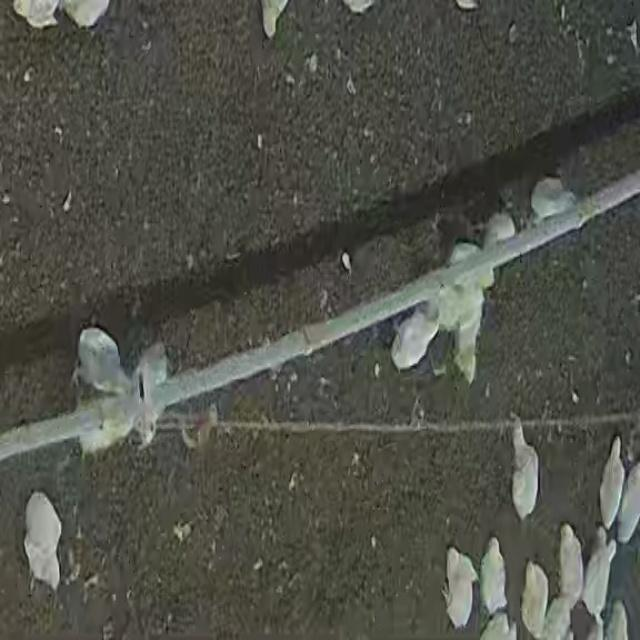chicken: (21, 489, 68, 593), (74, 318, 137, 394), (390, 306, 440, 372), (507, 424, 541, 520), (442, 548, 480, 630), (582, 532, 614, 616), (599, 438, 625, 530), (557, 524, 585, 606), (479, 537, 507, 615), (528, 176, 576, 221), (520, 561, 549, 633), (616, 456, 640, 540)
